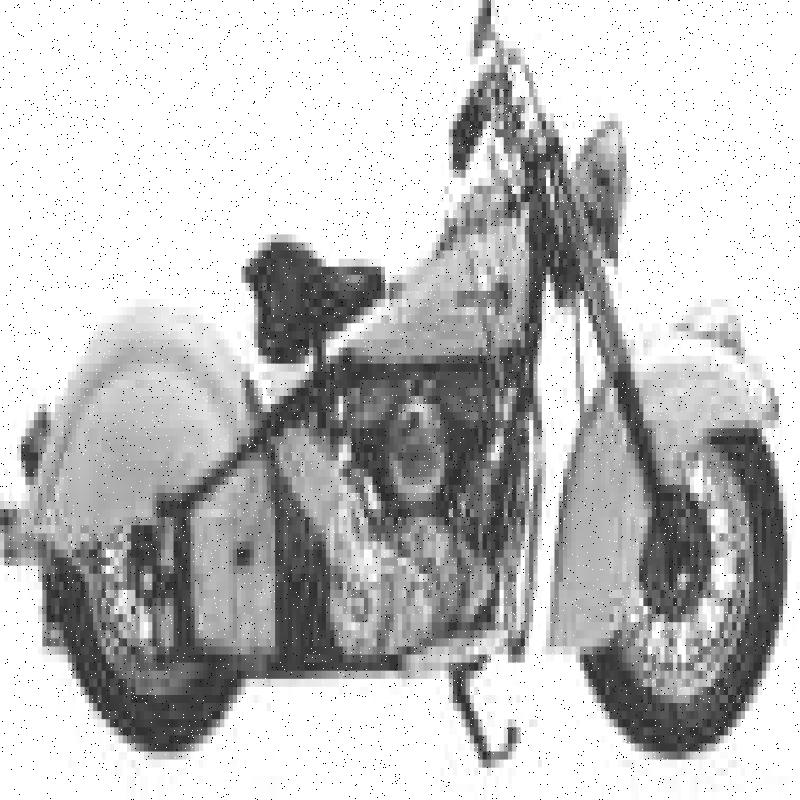bike: (30, 12, 791, 776)
